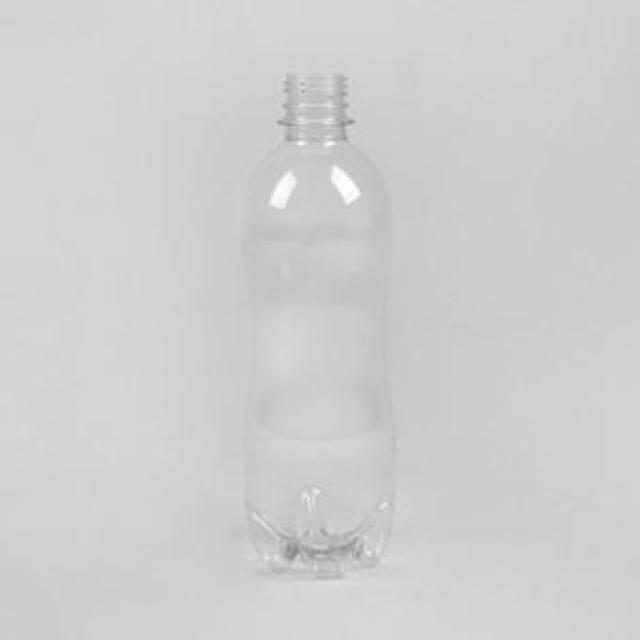bottle: (191, 44, 416, 605)
